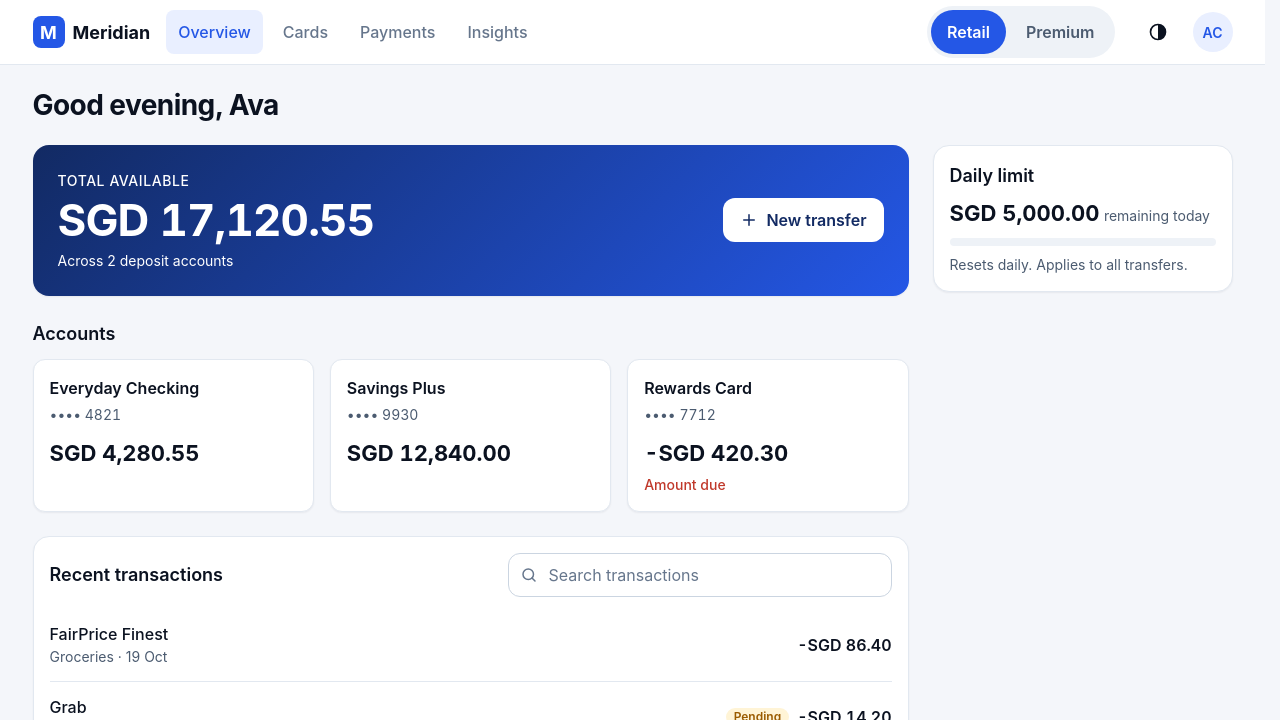
Test: dashboard › shows a search error inside the panel, and Retry recovers
Expected: the heading "Good evening, Ava" is shown, [32,89,279,121]
In the search field labelled "Search transactions": (700, 575) [508,553,892,597], type "grab"
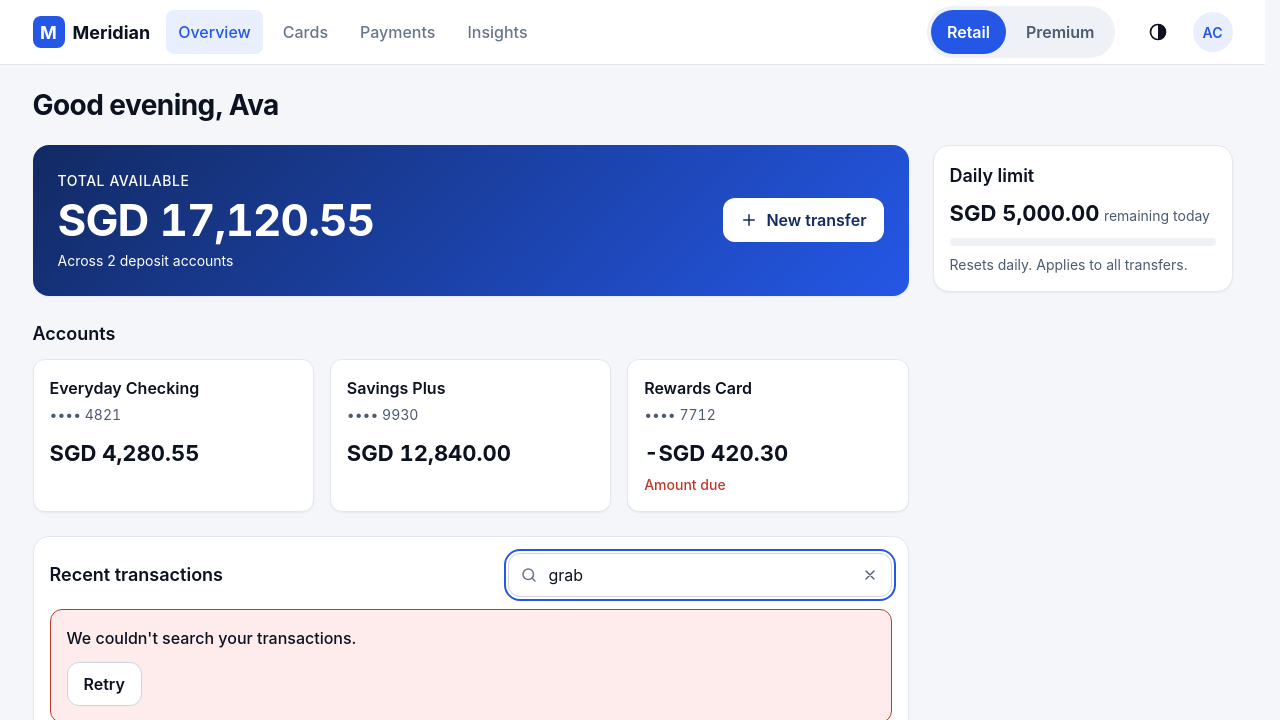
Expected: the text "SGD 4,280.55" is shown, [50,440,199,466]
Now the text "We couldn't search your transactions." is shown, box [66,626,356,650]
Click the button "Retry": (104, 684) [66,662,142,706]
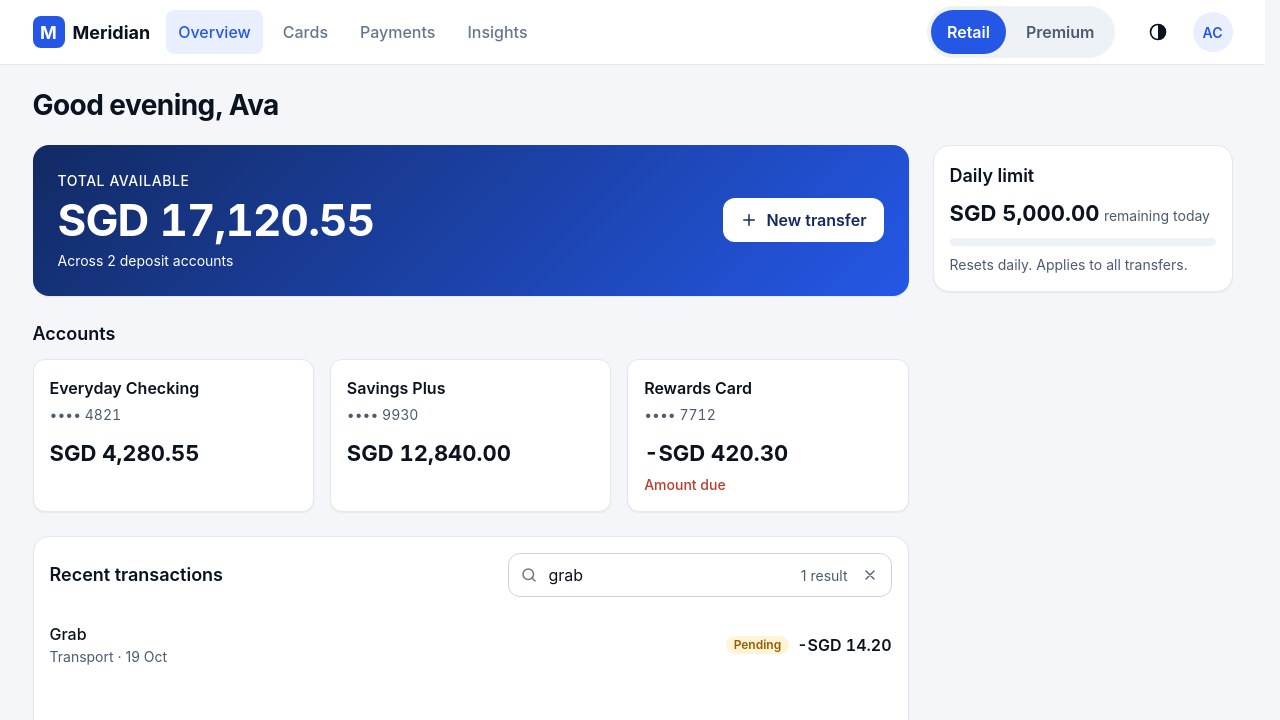
Now the text "1 result" is shown, box [801,564,848,585]
Now the text "Grab" is shown, box [50,624,87,644]
